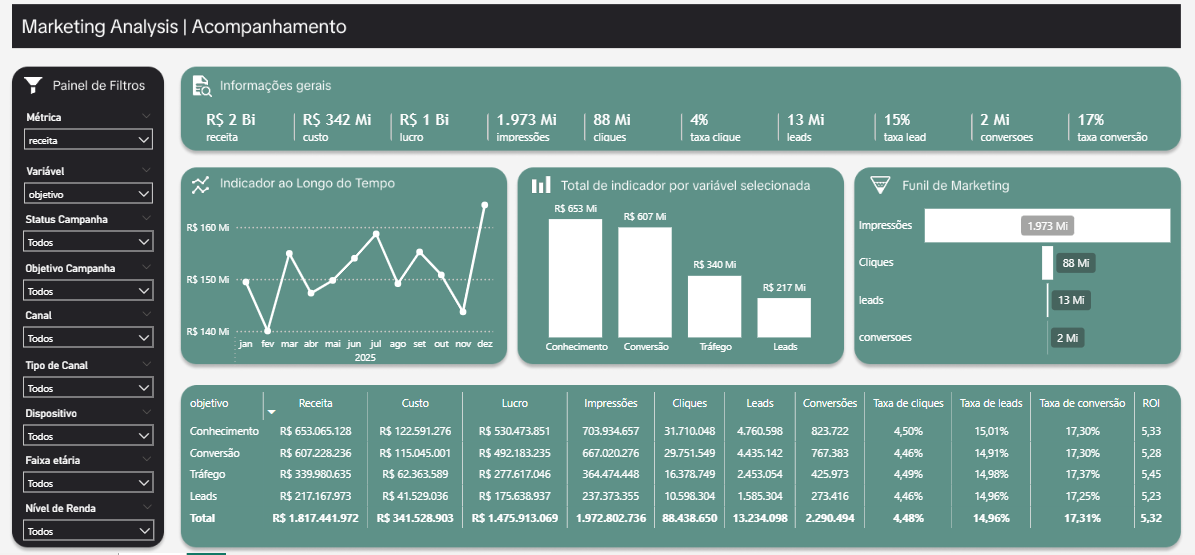

This screenshot's page, from the dashboard's own definition file:
{"tool":"powerbi","page":{"name":"Dash","canvas":[1500,720],"ordinal":0},"visuals":[{"type":"lineChart","fields":{"Y":["tb_medidas.receita"],"Category":["dimensions dim_data.ano","dimensions dim_data.nome_mes_abrv"]},"box":[232.9,244.3,394.3,231.4],"z":0},{"type":"clusteredColumnChart","fields":{"Y":["tb_medidas.receita"],"Category":["dimensions dim_campanha.objetivo"]},"box":[651.4,244.3,410,214.3],"z":1000},{"type":"pivotTable","fields":{"Rows":["dimensions dim_campanha.objetivo"],"Values":["tb_medidas.receita","tb_medidas.custo","tb_medidas.lucro","tb_medidas.impressoes","tb_medidas.cliques","tb_medidas.leads","tb_medidas.conversoes","tb_medidas.taxa_clique","tb_medidas.taxa_leads","tb_medidas.taxa_conversao","tb_medidas.roi"]},"box":[232.9,491.4,1245.7,195.7],"z":2000},{"type":"slicer","fields":{"Values":["Parâmetro.Parâmetro"]},"box":[25,207.3,181.4,57.1],"z":3000},{"type":"slicer","fields":{"Values":["medidas.medidas"]},"box":[25,140,181.4,64.3],"z":4000},{"type":"cardVisual","fields":{"Data":["tb_medidas.receita","tb_medidas.custo","tb_medidas.lucro","tb_medidas.impressoes","tb_medidas.cliques","tb_medidas.taxa_clique","tb_medidas.leads","tb_medidas.taxa_leads","tb_medidas.conversoes","tb_medidas.taxa_conversao"]},"box":[234.3,130,1245.7,70],"z":5000},{"type":"funnel","fields":{"Y":["tb_medidas.impressoes","tb_medidas.cliques","tb_medidas.leads","tb_medidas.conversoes"]},"box":[1074.3,257.1,404.3,201.4],"z":6000},{"type":"slicer","fields":{"Values":["dimensions dim_campanha.status"]},"box":[24.3,267.5,182.9,58.6],"z":7000},{"type":"slicer","fields":{"Values":["dimensions dim_campanha.objetivo"]},"box":[24.3,329.1,182.9,55.7],"z":8000},{"type":"slicer","fields":{"Values":["dimensions dim_canal.nome_canal"]},"box":[24.2,387.9,183,59],"z":9000},{"type":"slicer","fields":{"Values":["dimensions dim_canal.tipo_canal"]},"box":[24.2,449.9,183,57],"z":10000},{"type":"slicer","fields":{"Values":["dimensions dim_dispositivo.tipo_dispositivo"]},"box":[24.2,509.9,183,56],"z":11000},{"type":"slicer","fields":{"Values":["dimensions dim_publico.faixa_etaria"]},"box":[24.2,569,183,57],"z":12000},{"type":"slicer","fields":{"Values":["dimensions dim_publico.nivel_renda"]},"box":[23.7,629,184,59],"z":13000}]}

Visuals, with their boxes on the page's 1500x720 design canvas (x1, y1, x2, y2). These are canvas units, not pixel positions in the 1195x555 screenshot, which may show the page scaled, cropped or inside an application window:
lineChart - tb_medidas.receita x dimensions dim_data.ano: select_region(233, 244, 627, 476)
clusteredColumnChart - tb_medidas.receita x dimensions dim_campanha.objetivo: select_region(651, 244, 1061, 459)
pivotTable - dimensions dim_campanha.objetivo x tb_medidas.receita: select_region(233, 491, 1479, 687)
slicer - Parâmetro.Parâmetro: select_region(25, 207, 206, 264)
slicer - medidas.medidas: select_region(25, 140, 206, 204)
cardVisual - tb_medidas.receita x tb_medidas.custo: select_region(234, 130, 1480, 200)
funnel - tb_medidas.impressoes x tb_medidas.cliques: select_region(1074, 257, 1479, 458)
slicer - dimensions dim_campanha.status: select_region(24, 268, 207, 326)
slicer - dimensions dim_campanha.objetivo: select_region(24, 329, 207, 385)
slicer - dimensions dim_canal.nome_canal: select_region(24, 388, 207, 447)
slicer - dimensions dim_canal.tipo_canal: select_region(24, 450, 207, 507)
slicer - dimensions dim_dispositivo.tipo_dispositivo: select_region(24, 510, 207, 566)
slicer - dimensions dim_publico.faixa_etaria: select_region(24, 569, 207, 626)
slicer - dimensions dim_publico.nivel_renda: select_region(24, 629, 208, 688)
